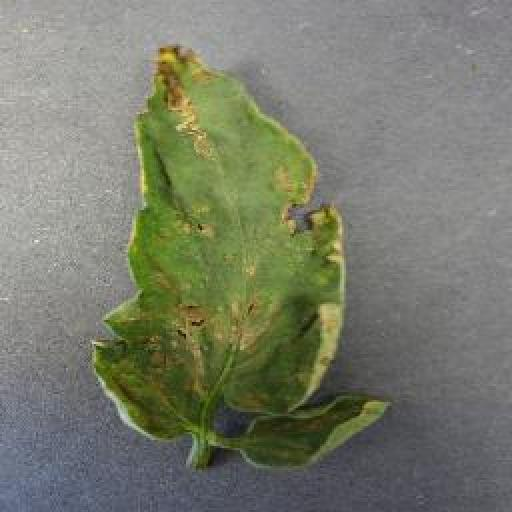Bacterial Spot: (92, 38, 395, 470)
